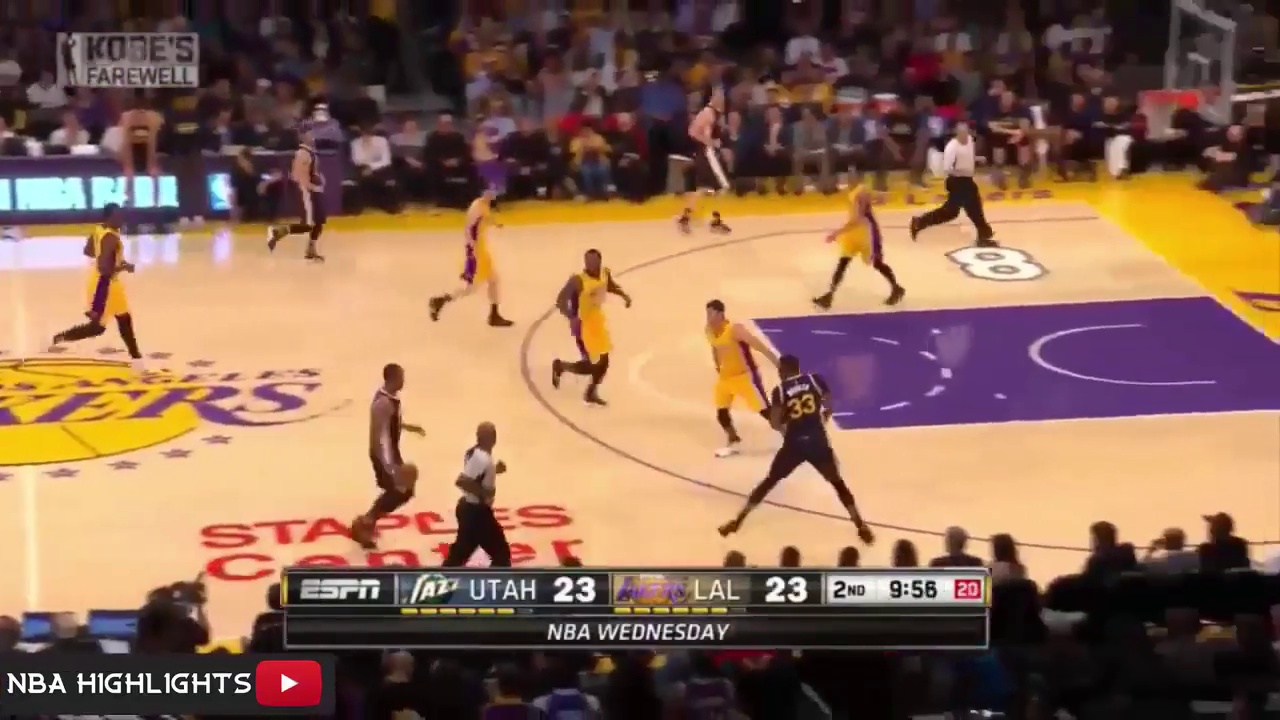jazz: (728, 351, 887, 552), (355, 355, 428, 544), (266, 124, 344, 264), (673, 84, 739, 242)
lakers: (53, 196, 166, 381), (808, 160, 914, 312), (548, 243, 641, 408), (691, 302, 789, 454), (443, 167, 518, 329)
